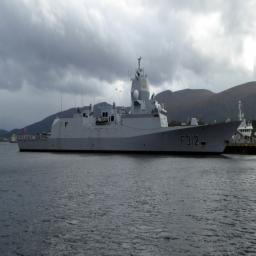Fragata: (16, 49, 243, 163)
